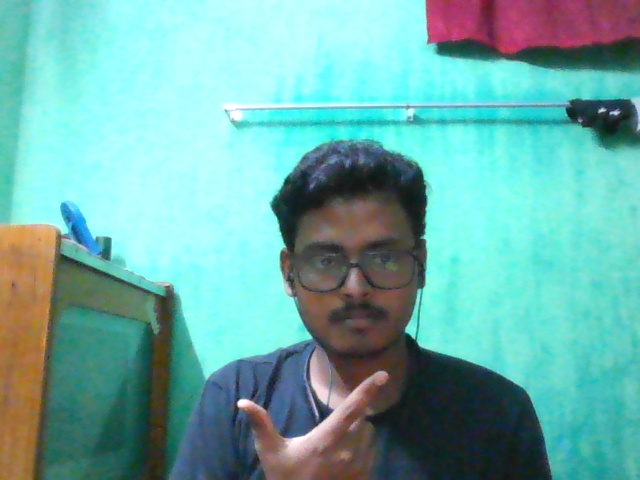ThnakYou: (235, 365, 390, 480)
